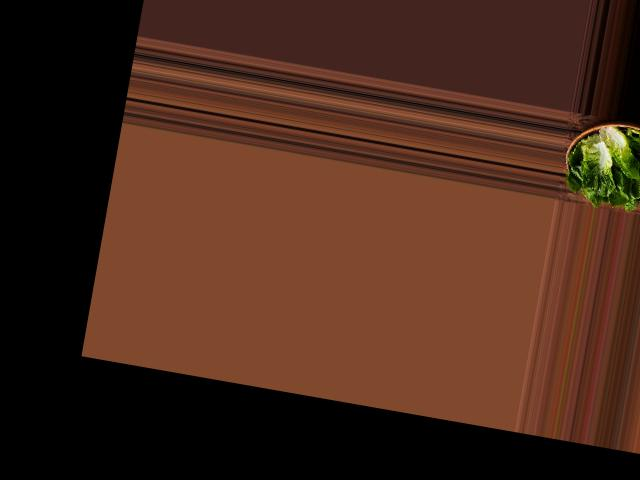lettuce: (554, 112, 640, 218)
